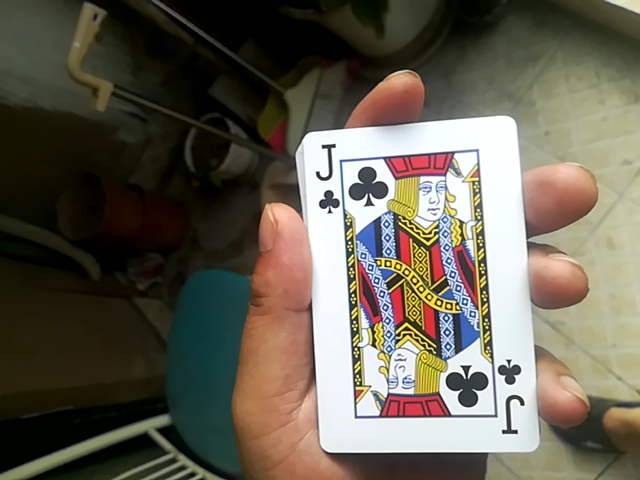mh j: (297, 118, 540, 448)
